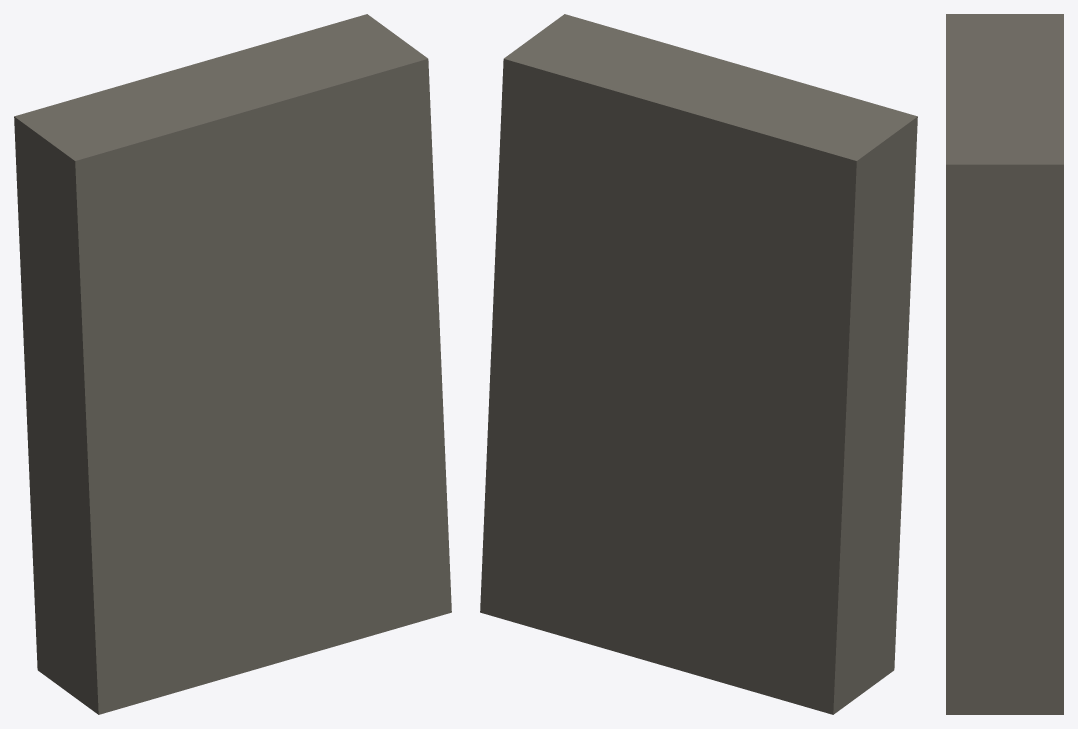
The model's file is lapida.glb.
3 renders of one model, left to right at view 1: azimuth 30°, elevation 25°; view 2: azimuth 150°, elevation 25°; view 3: azimuth 270°, elevation 25°, orthographic. The views are drawn at different scales.
Visible parts, largest first — view 1: lapida; view 2: lapida; view 3: lapida.
Part boxes in pixels (<box>): lapida: <box>14,14,451,714</box>; lapida: <box>480,14,917,714</box>; lapida: <box>946,14,1063,714</box>.
Size of the model in its own units: 0.5819 by 0.85 by 0.1635.
Materials: 1 (1 with a texture image).
